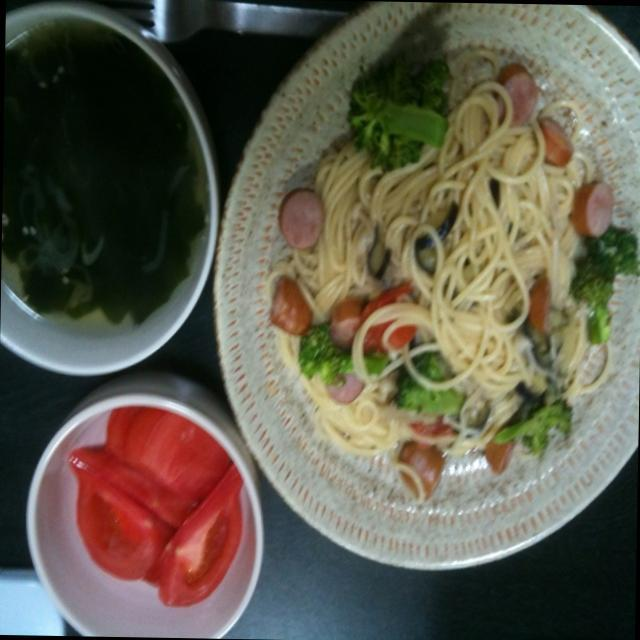Pasta: (256, 68, 611, 493)
